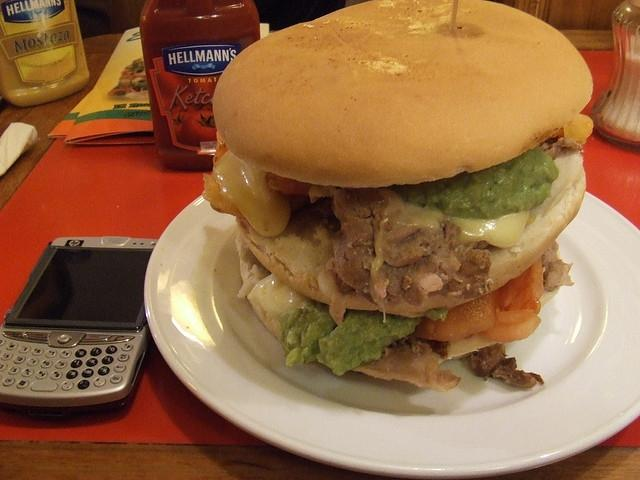tomato: (413, 288, 501, 341), (498, 264, 534, 310), (482, 314, 540, 342), (181, 110, 218, 147), (266, 172, 312, 197), (171, 111, 191, 145), (504, 286, 530, 311)
